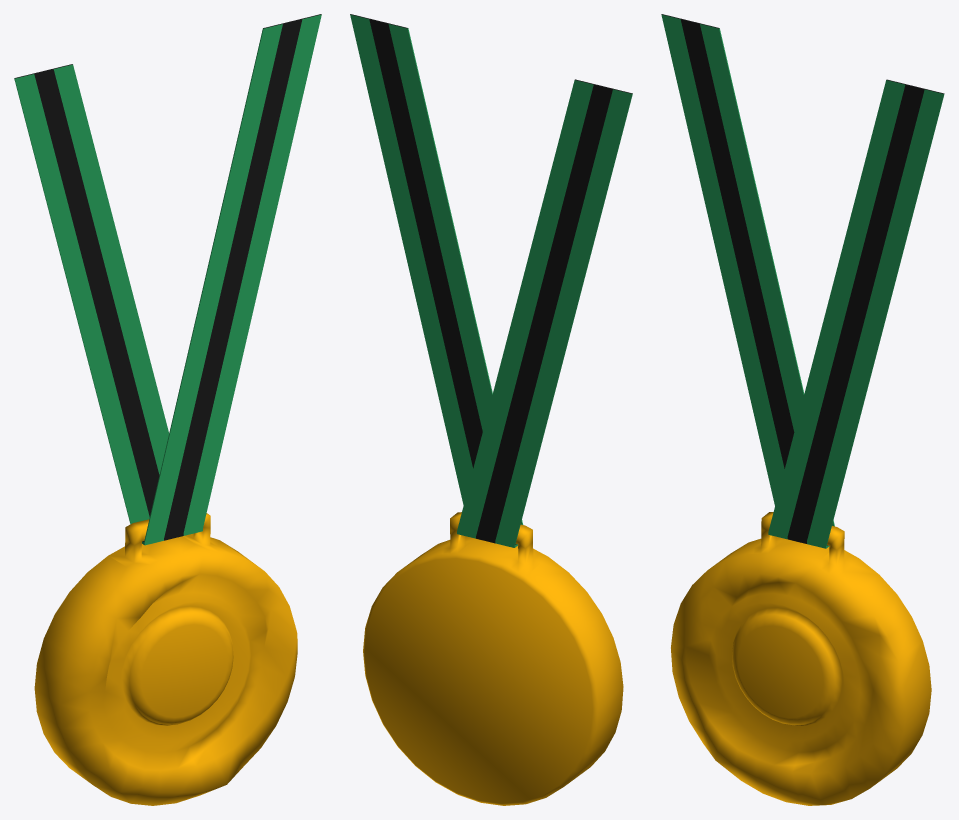
File: Medal.glb
3 renders of one model, left to right at view 1: azimuth 30°, elevation 25°; view 2: azimuth 150°, elevation 25°; view 3: azimuth 330°, elevation 25°, orthographic.
Parts seen in each view (by area): view 1: Cube; view 2: Cube; view 3: Cube.
Part boxes in pixels (<box>): Cube: <box>14,14,321,805</box>; Cube: <box>350,14,632,805</box>; Cube: <box>661,14,944,805</box>.
Size of the model in its own units: 2.49 by 6 by 0.537.
